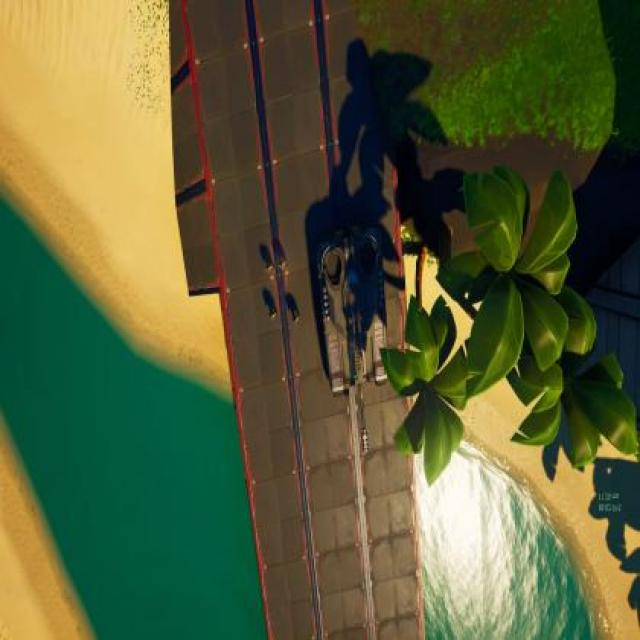tank: (318, 215, 386, 452)
